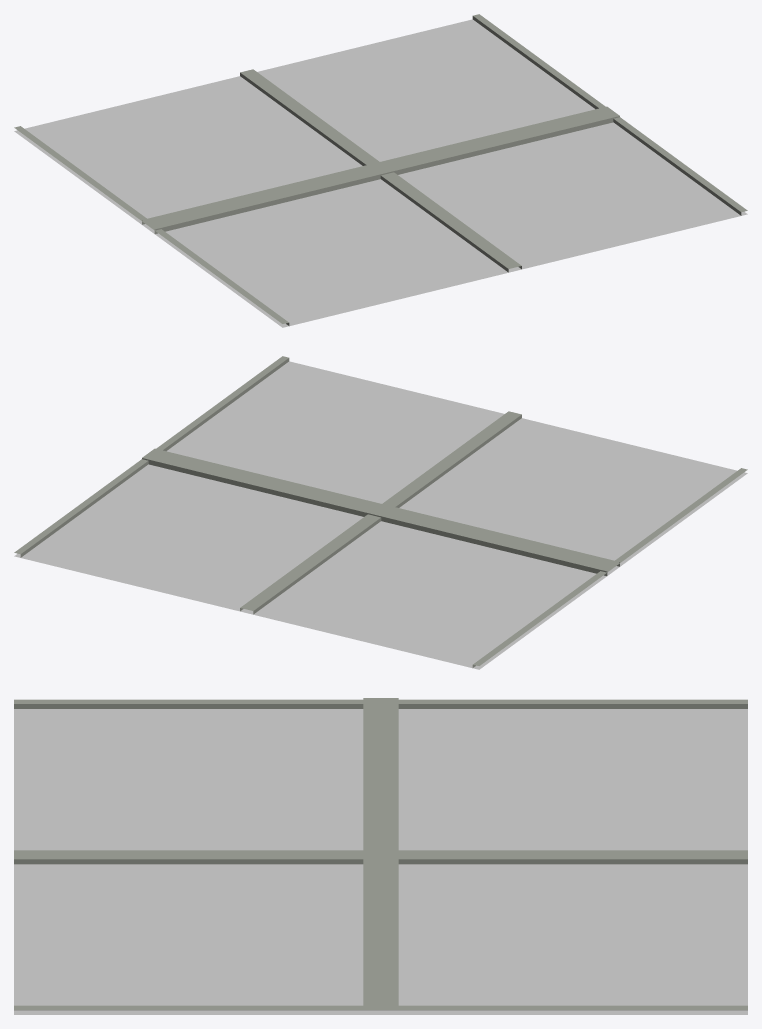
File: SM_Ceiling_01.fbx
3 renders of one model, top to bottom at view 1: azimuth 30°, elevation 25°; view 2: azimuth 150°, elevation 25°; view 3: azimuth 270°, elevation 25°, orthographic. The views are drawn at different scales.
Parts seen in each view (by area): view 1: SM_Ceiling_01; view 2: SM_Ceiling_01; view 3: SM_Ceiling_01.
Boxes of the visible parts, box(x1,y1,x2,y2) form: SM_Ceiling_01: box(14, 14, 747, 327); SM_Ceiling_01: box(14, 356, 747, 669); SM_Ceiling_01: box(14, 698, 747, 1014).
Bounding box in the file's own units: 200 × 1.98 × 200.
